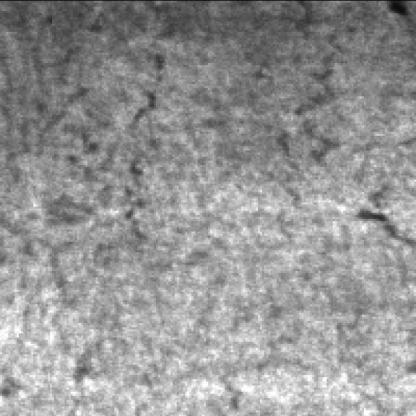crazing: (0, 48, 166, 287), (250, 2, 339, 248)
